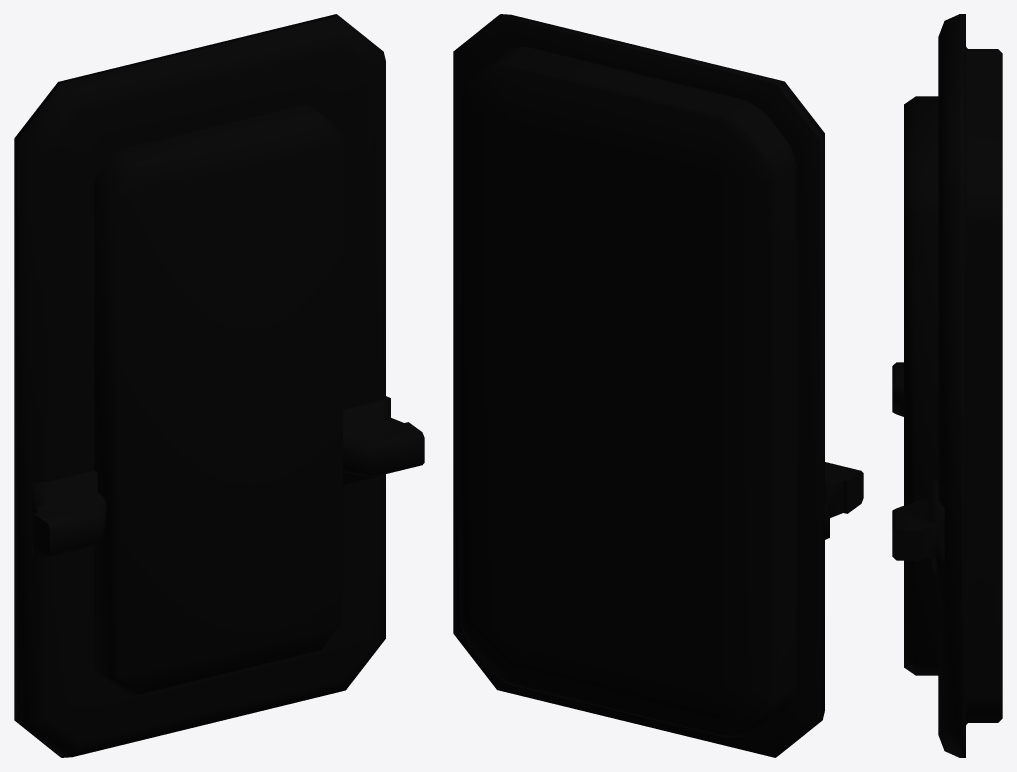
The model's file is 02_06_scan_chamber_door.dae.
3 renders of one model, left to right at view 1: azimuth 30°, elevation 25°; view 2: azimuth 150°, elevation 25°; view 3: azimuth 270°, elevation 25°, orthographic. The views are drawn at different scales.
Parts seen in each view (by area): view 1: door; view 2: door; view 3: door.
Part boxes in pixels (x1,y1,x2,y2): door: (14, 14, 424, 757); door: (453, 14, 863, 757); door: (892, 14, 1002, 757).
Size of the model in its own units: 1.96 by 3.37 by 0.5439.
